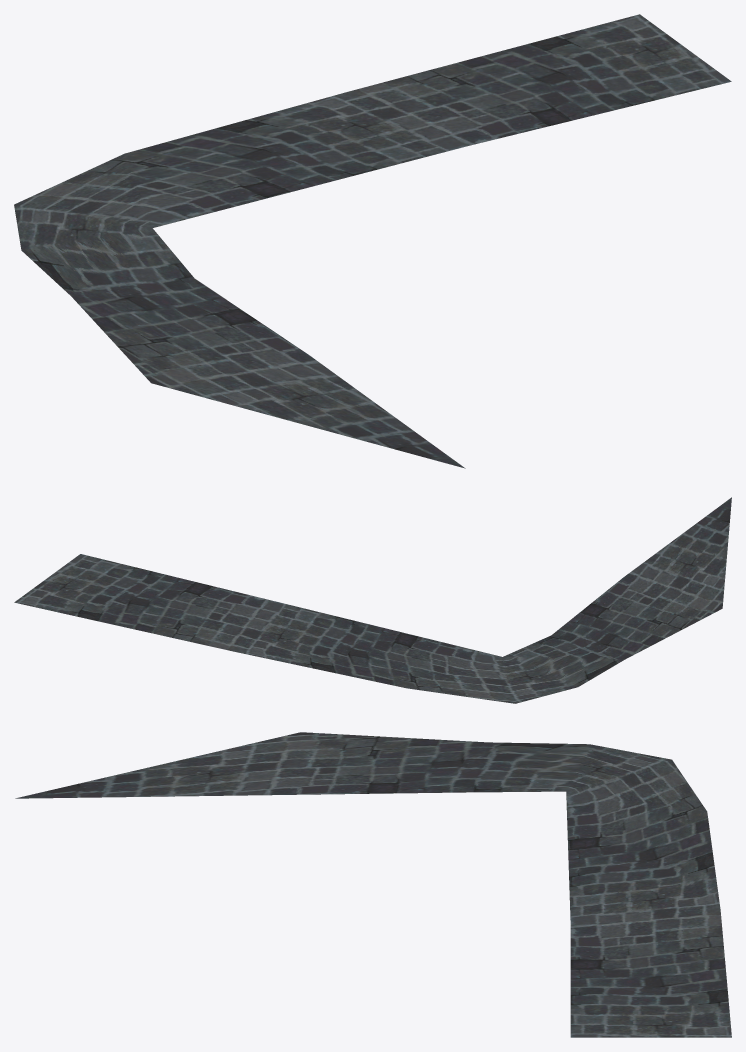
The model's file is blend_brick09.fbx.
3 renders of one model, top to bottom at view 1: azimuth 30°, elevation 25°; view 2: azimuth 150°, elevation 25°; view 3: azimuth 270°, elevation 25°, orthographic. The views are drawn at different scales.
Parts seen in each view (by area): view 1: new_stone/brick_blend_shadow; view 2: new_stone/brick_blend_shadow; view 3: new_stone/brick_blend_shadow.
Boxes of the visible parts, <box> form: new_stone/brick_blend_shadow: <box>14,14,731,468</box>; new_stone/brick_blend_shadow: <box>14,497,731,703</box>; new_stone/brick_blend_shadow: <box>15,732,731,1037</box>.
Bounding box in the file's own units: 10.24 × 0.1578 × 9.9.
